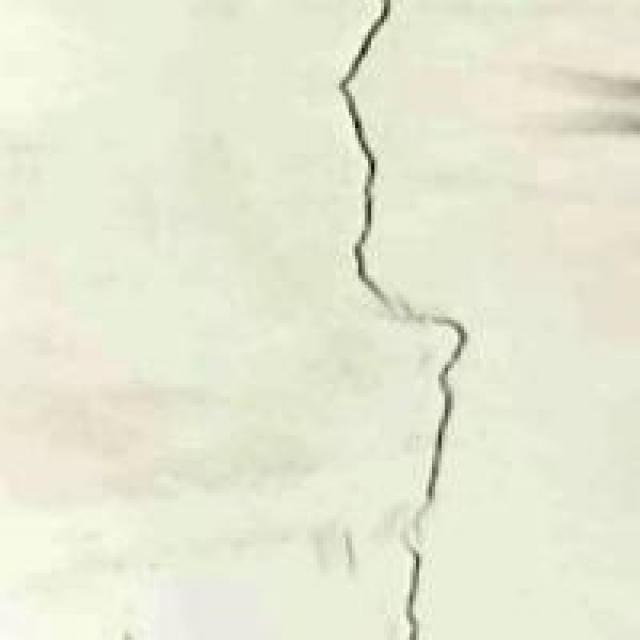crack: (243, 0, 512, 637)
